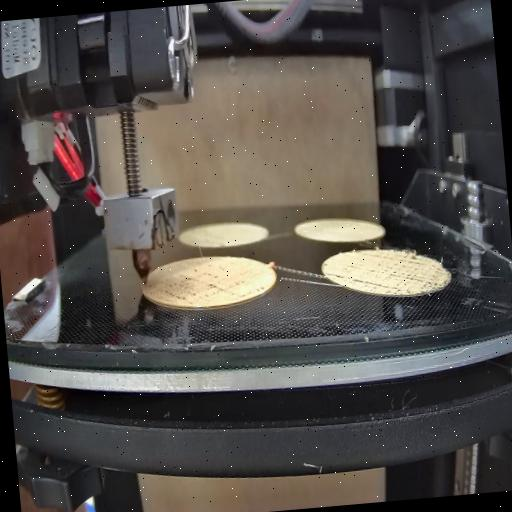under_extrusion: (146, 266, 266, 313), (345, 254, 449, 301), (324, 265, 344, 282)
